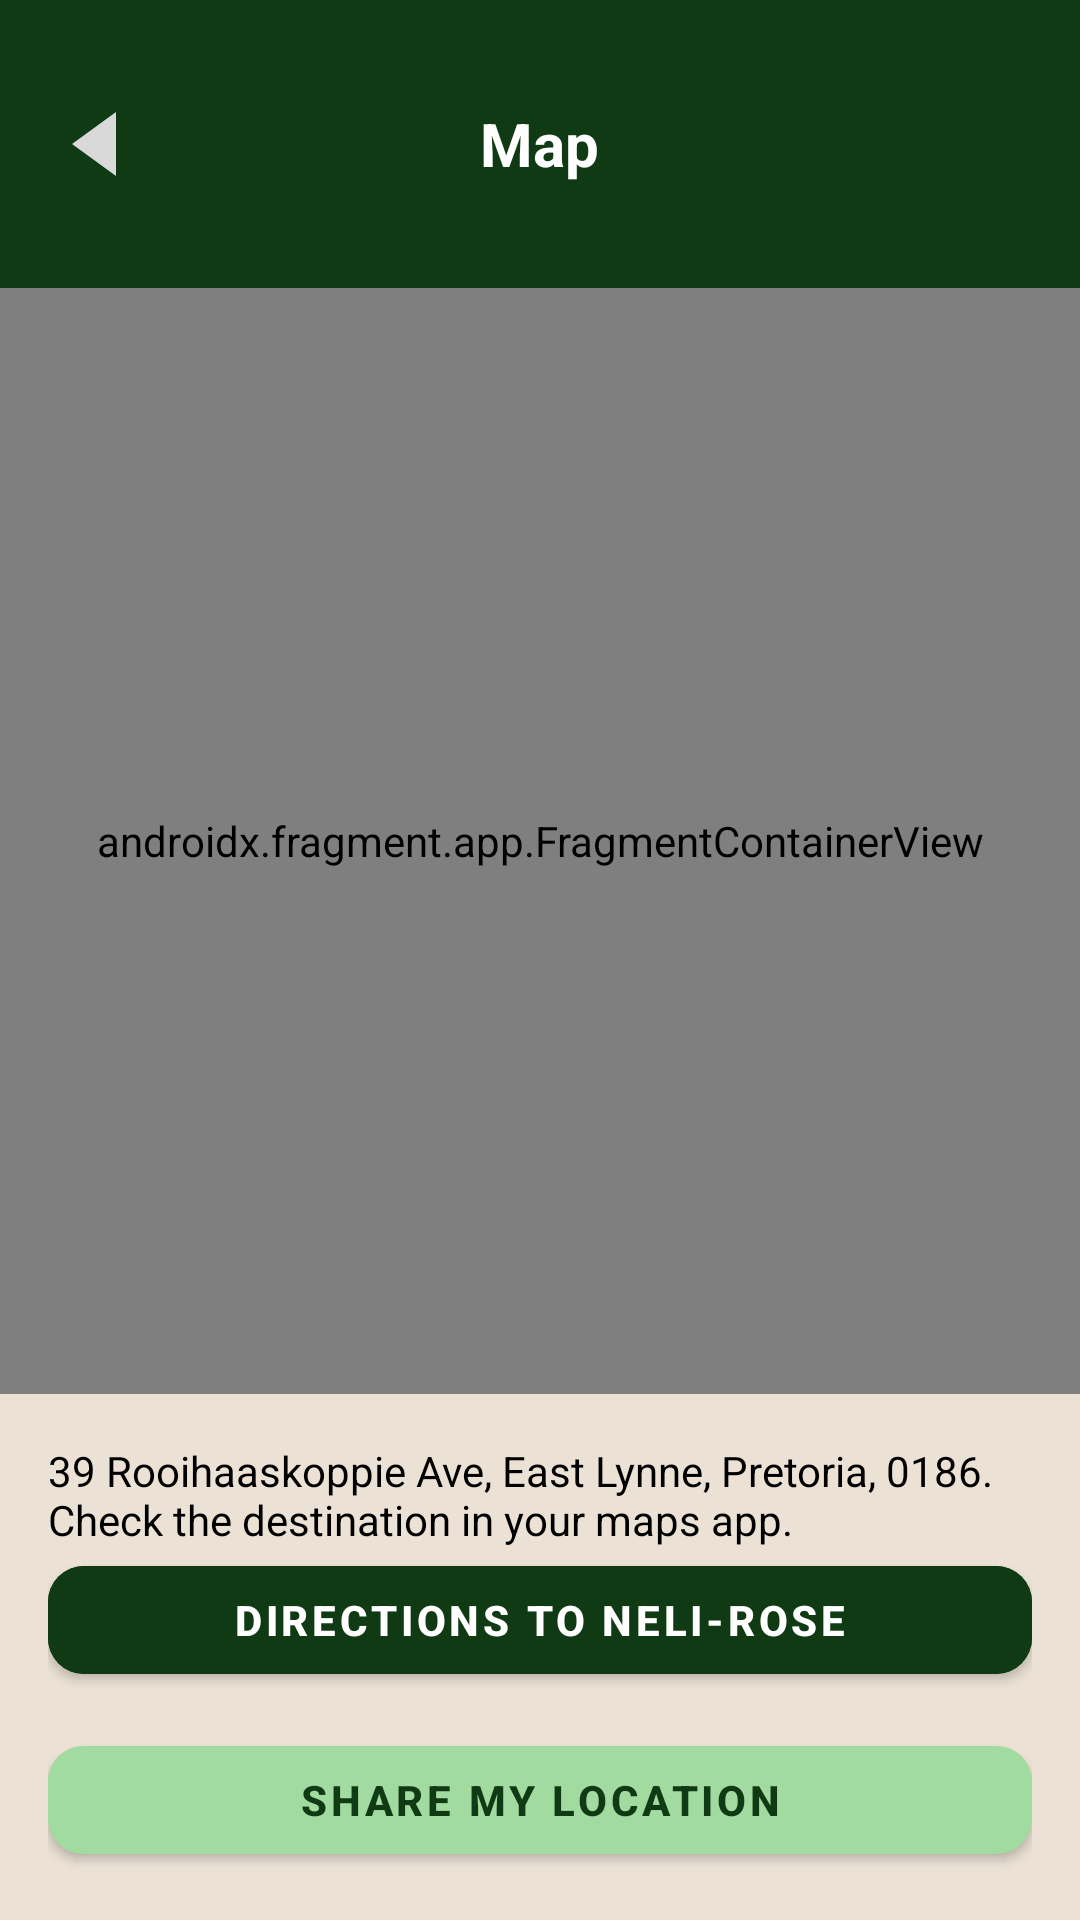

Where to tap for icons on this 1080px×1920px app screen, as point (x, y):
Back: point (94, 144)
